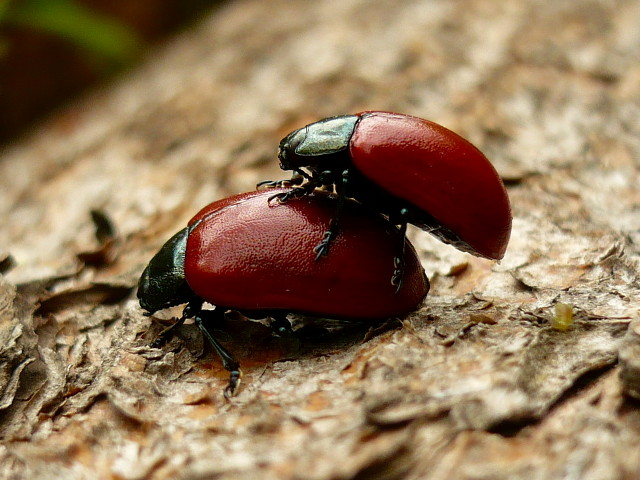Chrysomela_populi: (144, 182, 445, 403), (263, 100, 519, 289)
